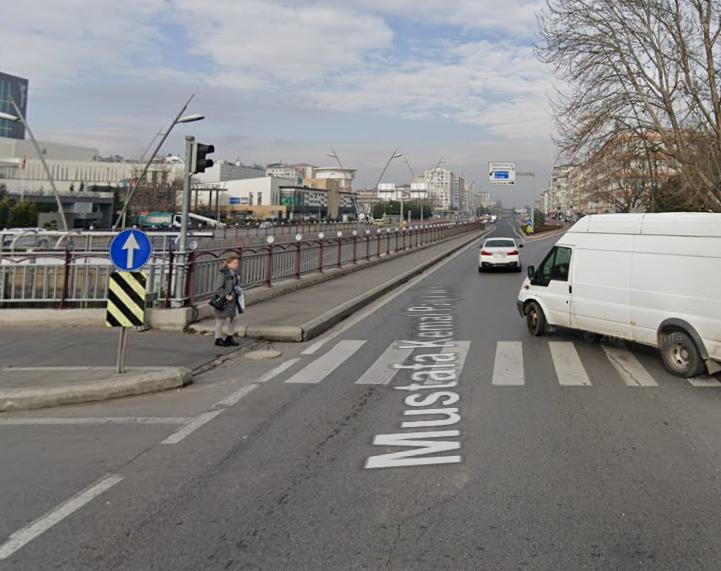forward: (110, 230, 152, 270)
